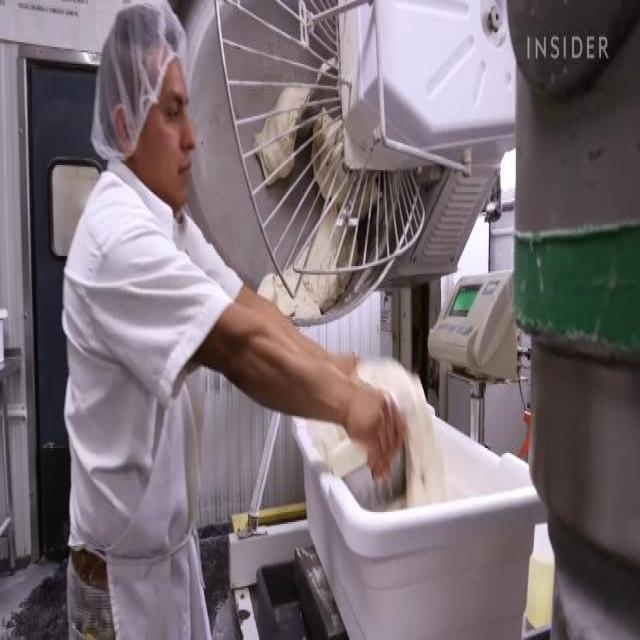bare_hand: (331, 345, 408, 473)
